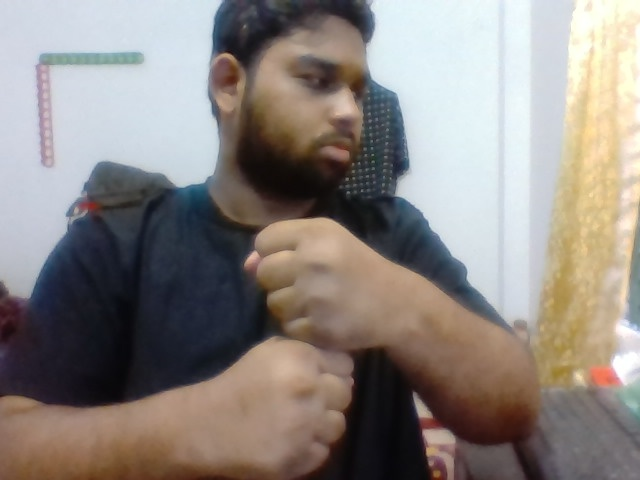G: (219, 213, 391, 478)
